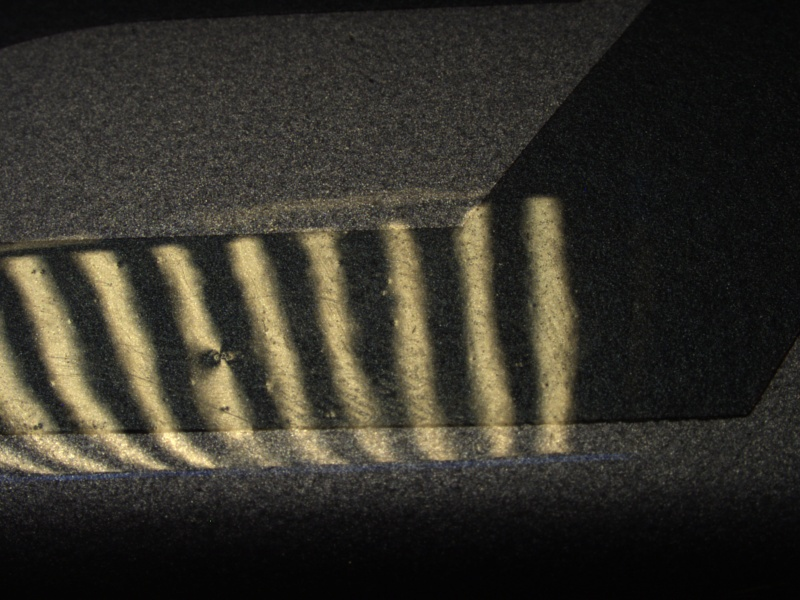bad: (195, 337, 244, 381)
